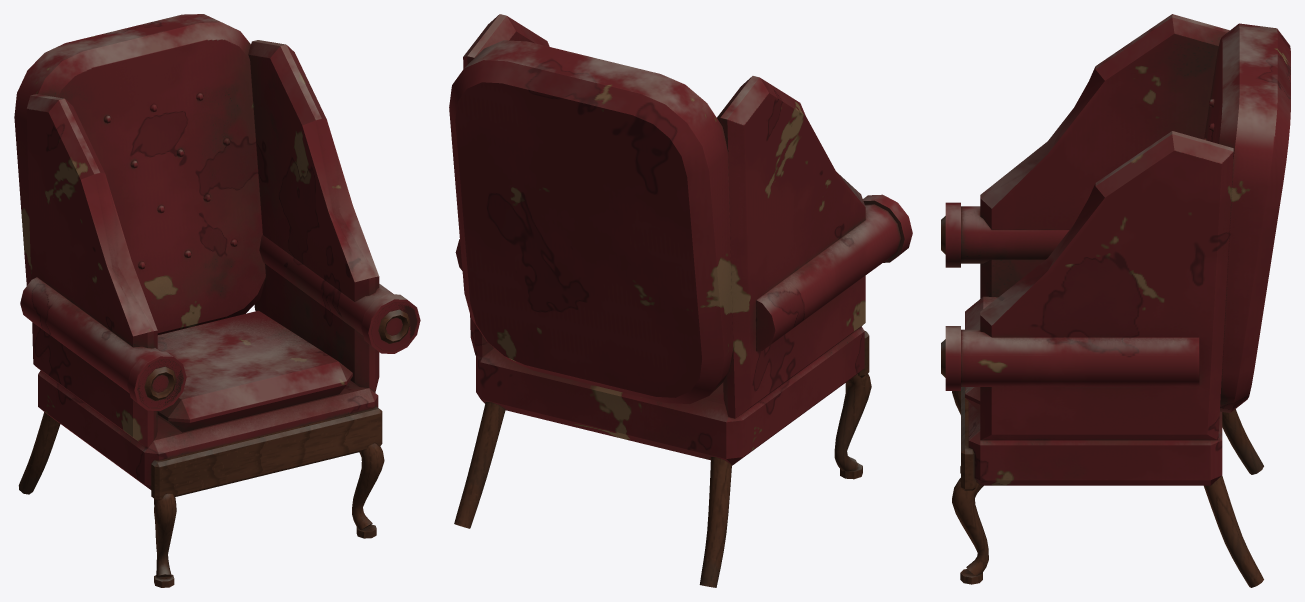
The model's file is WingbackArmchair.fbx.
The picture shows the model from 3 angles, left to right: view 1: azimuth 30°, elevation 25°; view 2: azimuth 150°, elevation 25°; view 3: azimuth 270°, elevation 25°; orthographic projection. The views are drawn at different scales.
Visible parts, largest first — view 1: WingbackArmchair; view 2: WingbackArmchair; view 3: WingbackArmchair.
Part boxes in pixels (x1,y1,x2,y2): WingbackArmchair: (14, 14, 420, 587); WingbackArmchair: (449, 14, 912, 587); WingbackArmchair: (941, 14, 1290, 587).
Bounding box in the file's own units: 2.79 × 4.05 × 2.73.
1 material, 1 textured.
